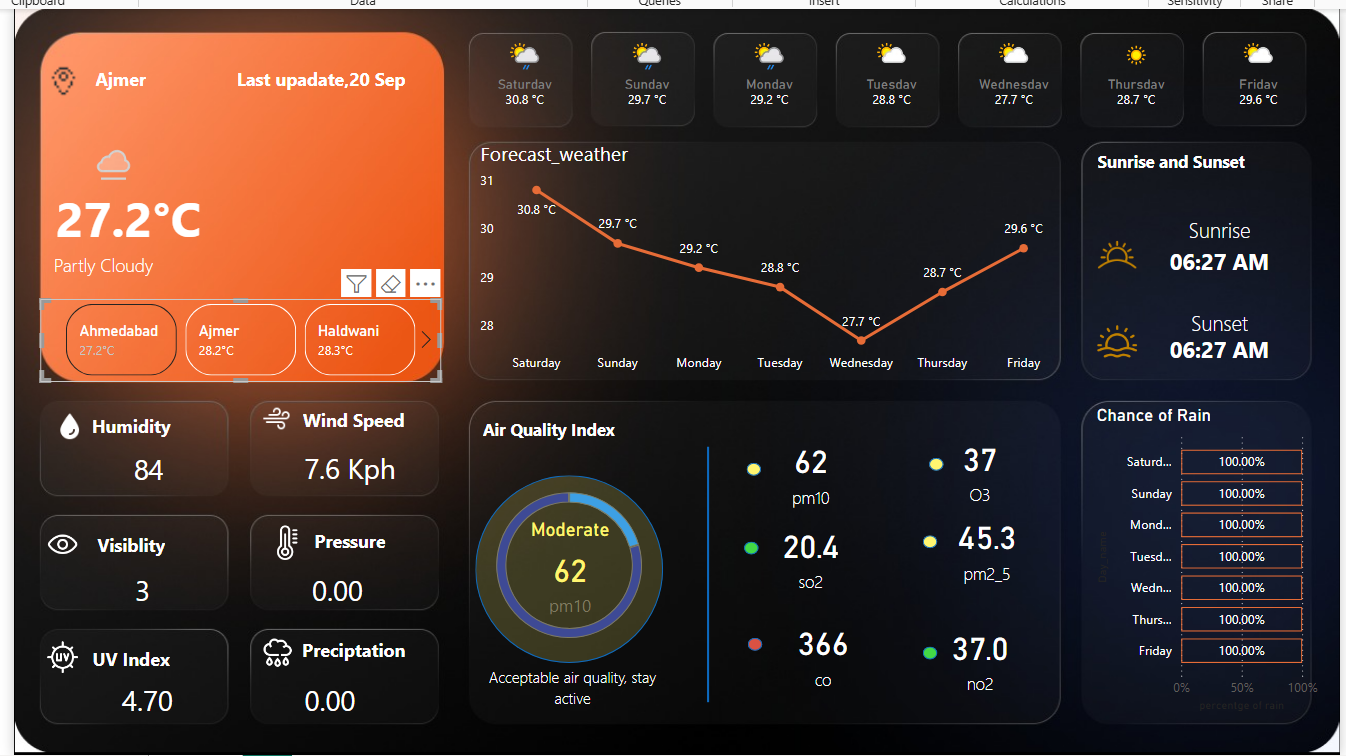

The dashboard page shown, as its layout file describes it:
{"tool":"powerbi","page":{"name":"Page 1","canvas":[1280,720],"ordinal":0},"visuals":[{"type":"image","box":[10,0,280,280],"z":0}]}

Visuals, with their boxes on the page's 1280x720 design canvas (x1, y1, x2, y2). These are canvas units, not pixel positions in the 1346x756 screenshot, which may show the page scaled, cropped or inside an application window:
image: box(10, 0, 290, 280)
